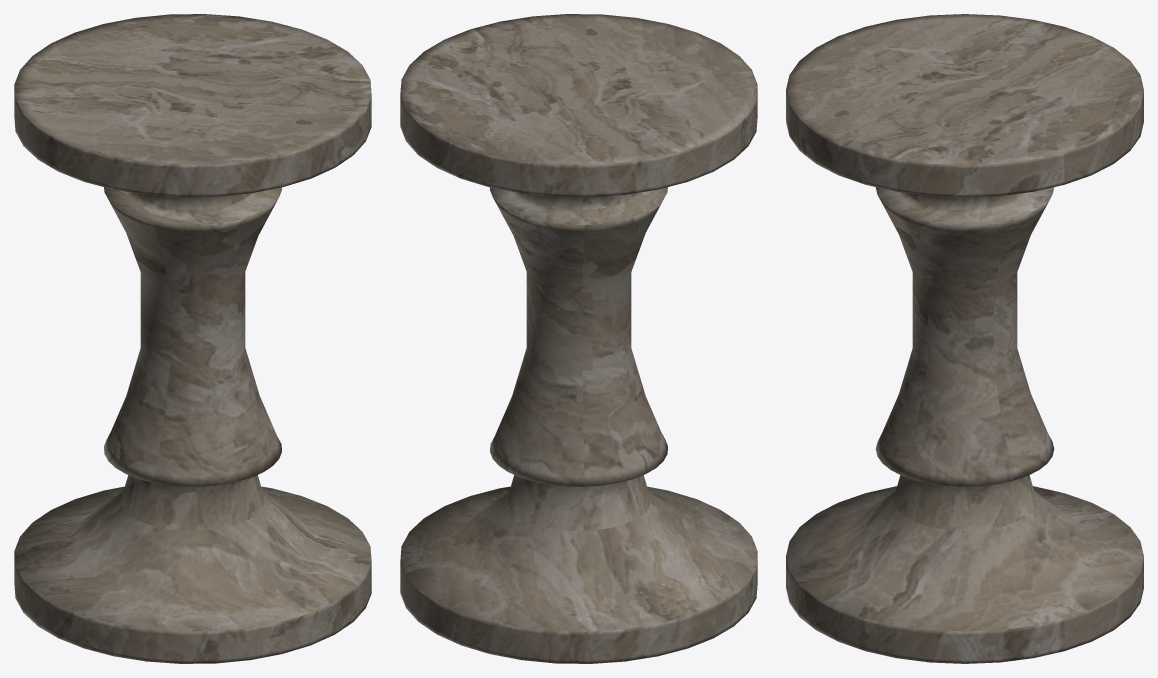
File: Round_Tab.fbx
3 views of the same model, side by side, from view 1: azimuth 30°, elevation 25°; view 2: azimuth 150°, elevation 25°; view 3: azimuth 270°, elevation 25° (orthographic).
Parts seen in each view (by area): view 1: Round_Tab; view 2: Round_Tab; view 3: Round_Tab.
Part boxes in pixels (x1,y1,x2,y2): Round_Tab: [14, 14, 371, 663]; Round_Tab: [400, 14, 757, 663]; Round_Tab: [786, 14, 1143, 663].
Bounding box in the file's own units: 45.08 × 69.3 × 45.08.
1 material, 1 textured.
